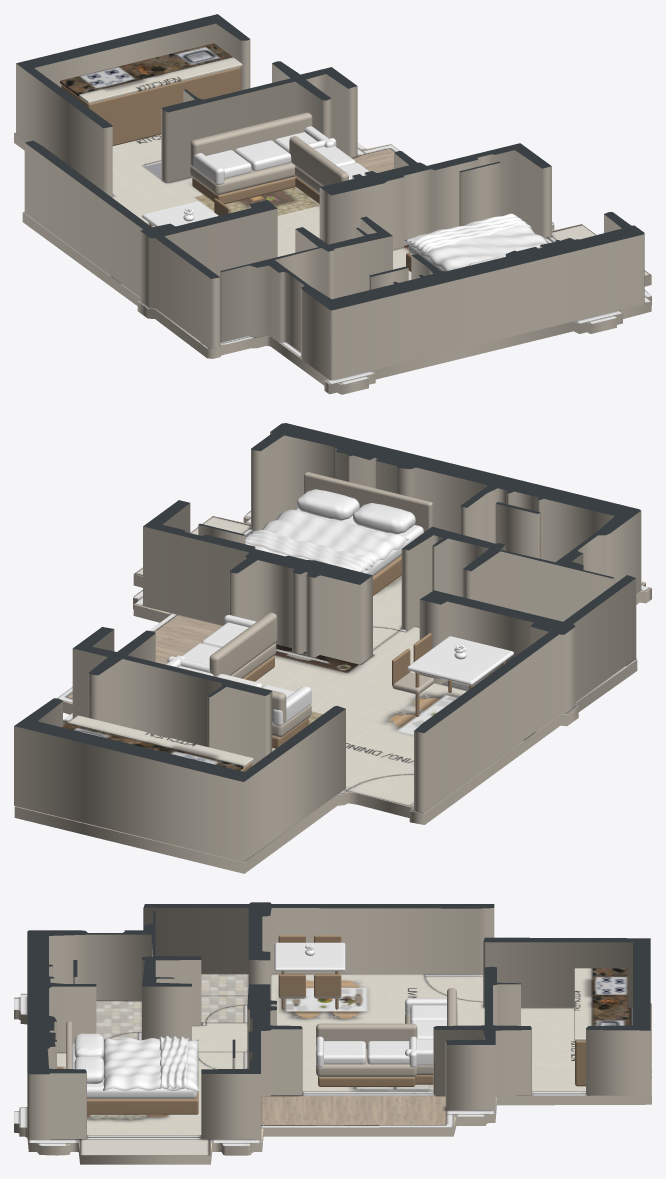
The picture shows the model from 3 angles, top to bottom: view 1: azimuth 30°, elevation 25°; view 2: azimuth 150°, elevation 25°; view 3: azimuth 270°, elevation 25°; orthographic projection. The views are drawn at different scales.
Visible parts, largest first — view 1: Partition walls, Apartment floor, Stone worktop, Kitchen cabinets, Draped bed linen, Sofa back, Draped bed linen.001, Sofa back.001, Upholstered sofa frame, Seat cushion.001, Sofa plinth, Marble dining top (+2 smaller); view 2: Partition walls, Apartment floor, Draped bed linen, Stone worktop, Marble dining top, Upholstered headboard, Sofa back.001, Draped bed linen.001, Tailored pillow, Tailored pillow.001, Piped mattress, Padded armrest; view 3: Partition walls, Apartment floor, Draped bed linen, Stone worktop, Marble dining top, Walnut upholstered base, Sofa back.001, Draped bed linen.001, Upholstered sofa frame.001, Piped mattress, Seat cushion.003, Seat cushion.004 (+9 smaller).
Part boxes in pixels (x1,y1,x2,y2): Partition walls: [16, 14, 644, 380]; Apartment floor: [14, 132, 651, 394]; Stone worktop: [60, 43, 242, 103]; Kitchen cabinets: [61, 67, 240, 145]; Draped bed linen: [404, 215, 548, 271]; Sofa back: [190, 112, 312, 165]; Draped bed linen.001: [409, 213, 531, 254]; Sofa back.001: [289, 136, 348, 186]; Upholstered sofa frame: [190, 162, 295, 194]; Seat cushion.001: [235, 140, 291, 170]; Sofa plinth: [192, 176, 295, 204]; Marble dining top: [142, 201, 218, 226]; Partition walls: [14, 423, 641, 861]; Apartment floor: [14, 511, 651, 873]; Draped bed linen: [245, 509, 408, 571]; Stone worktop: [62, 715, 253, 770]; Marble dining top: [407, 636, 513, 685]; Upholstered headboard: [304, 472, 432, 532]; Sofa back.001: [209, 612, 277, 676]; Draped bed linen.001: [245, 530, 374, 572]; Tailored pillow: [353, 503, 415, 534]; Tailored pillow.001: [297, 489, 359, 520]; Piped mattress: [296, 508, 423, 575]; Padded armrest: [272, 686, 311, 725]; Partition walls: [27, 902, 650, 1139]; Apartment floor: [14, 973, 651, 1164]; Draped bed linen: [103, 1037, 198, 1091]; Stone worktop: [574, 968, 628, 1040]; Marble dining top: [274, 942, 345, 971]; Walnut upholstered base: [87, 1091, 198, 1114]; Sofa back.001: [316, 1023, 417, 1048]; Draped bed linen.001: [159, 1036, 188, 1089]; Upholstered sofa frame.001: [316, 1048, 417, 1076]; Piped mattress: [72, 1043, 197, 1098]; Seat cushion.003: [324, 1041, 365, 1064]; Seat cushion.004: [367, 1041, 409, 1064].
Size of the model in its own units: 7.03 by 1.3 by 10.05.
9 materials, 1 textured.
